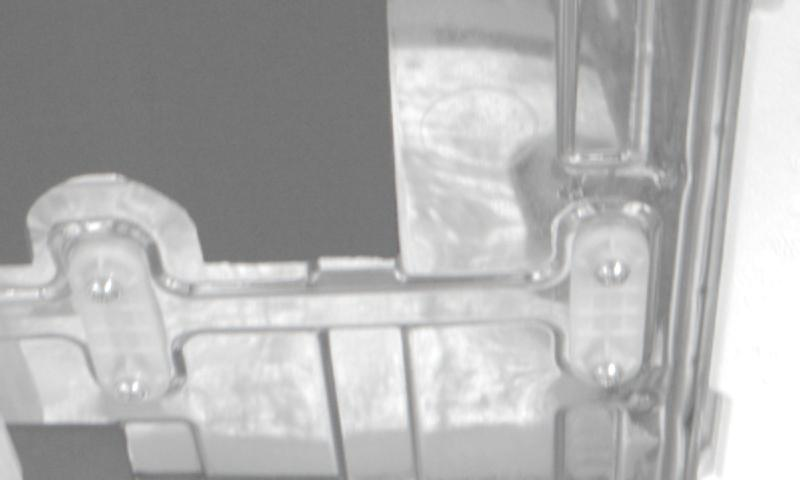vida-ok: (85, 268, 131, 312), (593, 250, 639, 293), (112, 372, 157, 412), (585, 352, 631, 391)
